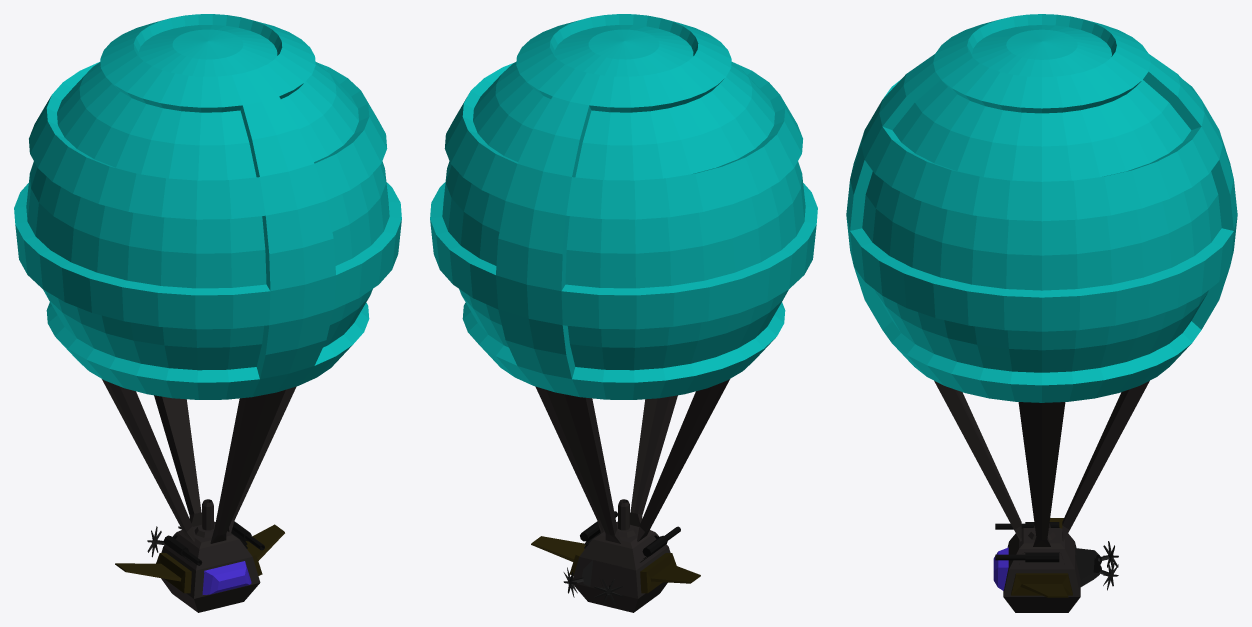
The model's file is Frame2.obj.
3 renders of one model, left to right at view 1: azimuth 30°, elevation 25°; view 2: azimuth 150°, elevation 25°; view 3: azimuth 270°, elevation 25°, orthographic.
Visible parts, largest first — view 1: core_Cube, wings_Cube.004, cabin_Cube.005, canons_Cube.006; view 2: core_Cube, wings_Cube.004, canons_Cube.006; view 3: core_Cube, wings_Cube.004, canons_Cube.006, enginecore_Cube.002.
Part boxes in pixels (<box>): core_Cube: <box>14,14,401,612</box>; wings_Cube.004: <box>115,524,284,593</box>; cabin_Cube.005: <box>202,561,251,594</box>; canons_Cube.006: <box>163,521,264,565</box>; core_Cube: <box>430,14,817,612</box>; wings_Cube.004: <box>531,536,700,593</box>; canons_Cube.006: <box>580,511,680,562</box>; core_Cube: <box>846,14,1237,612</box>; wings_Cube.004: <box>1011,518,1072,597</box>; canons_Cube.006: <box>995,522,1059,562</box>; enginecore_Cube.002: <box>1075,548,1113,586</box>.
Size of the model in its own units: 16.84 by 26.6 by 16.84.
